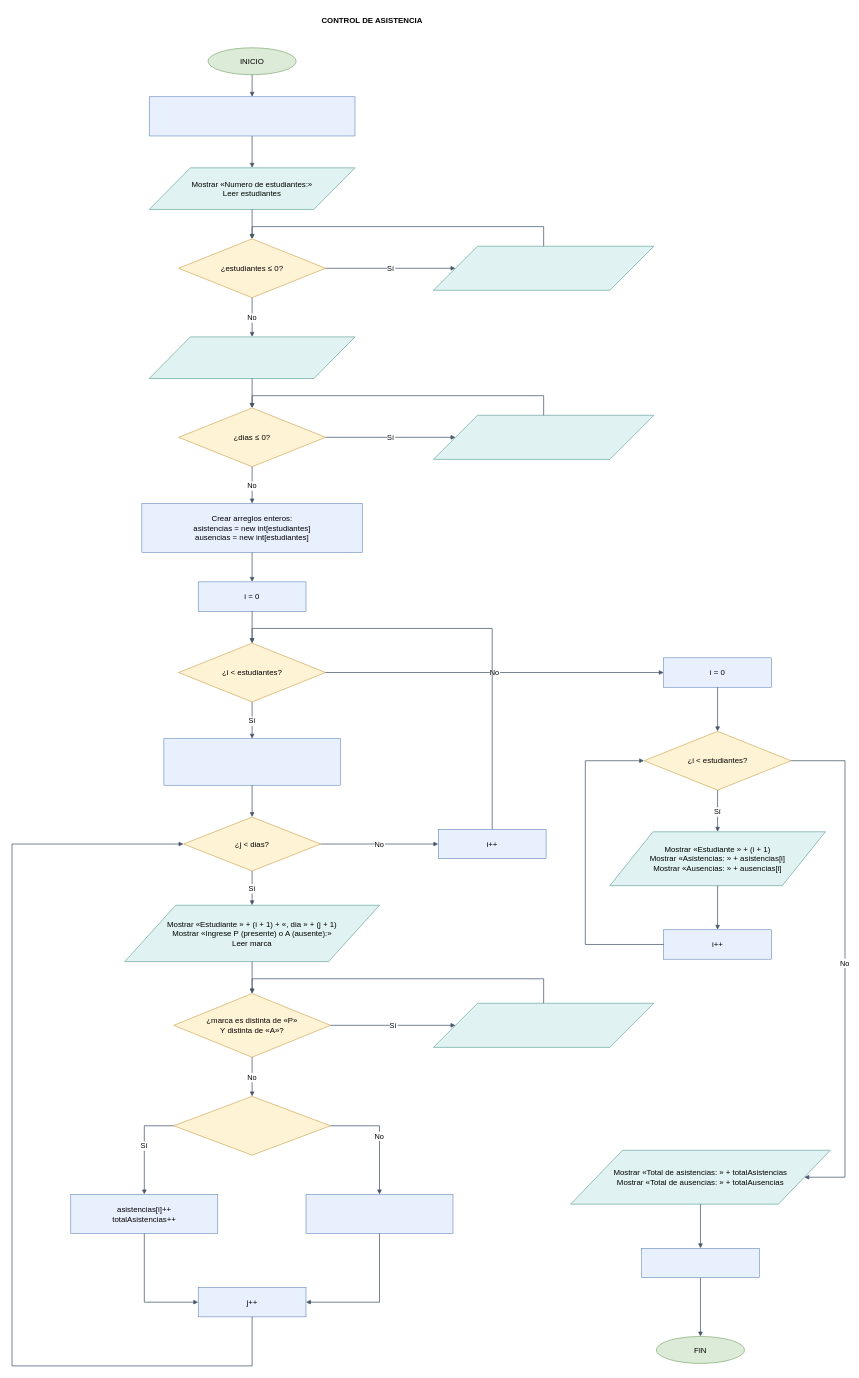
Image size: 859x1378. Some labels were removed from this diagram. Each missing label, with the centre of its shape:
asistencias[i] = 0 ausencias[i] = 0 j = 0: [251,761]
ausencias[i]++ totalAusencias++: [379,1214]
Crear Scanner totalAsistencias = 0; totalAusencias = 0: [252,116]
Mostrar «Ingrese una cantidad mayor que cero:» Leer dias: [543,437]
Mostrar «Ingrese una cantidad mayor que cero:» Leer estudiantes: [543,268]
Mostrar «Marca invalida. Ingrese P o A:» Leer marca: [543,1025]
Mostrar «Numero de dias:» Leer dias: [252,357]
scanner.close(): [700,1263]
¿marca.equals("P")?: [252,1125]
